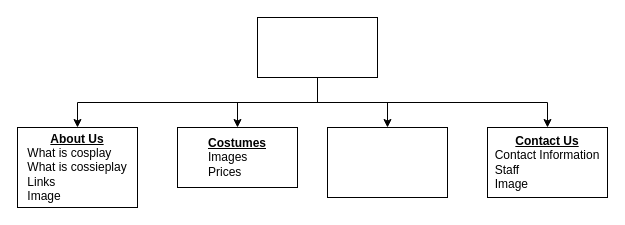
Some shapes in this 625 by 225 pixel diagram are drawn without their labels. Each missing label, with the box of its shape:
Home Announcements image: (256, 16, 378, 78)
Party Time Sign Up Guidelines Image: (326, 126, 448, 198)
